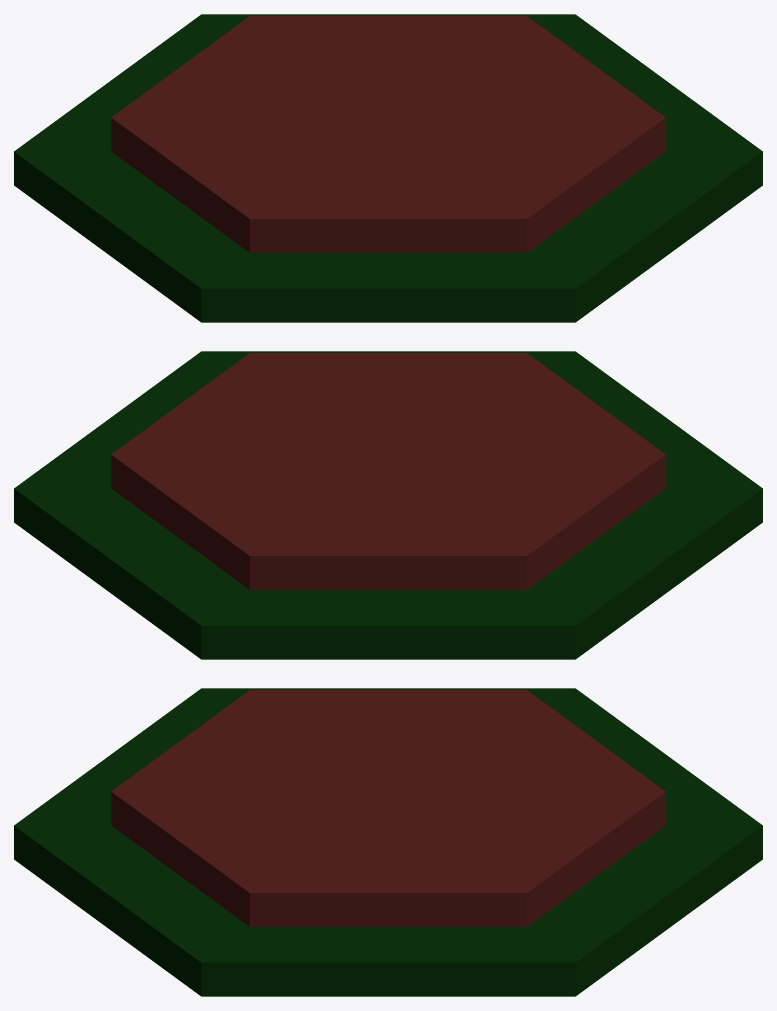
Rendered from hexagon-red.glb.
3 views of the same model, one above another, from view 1: azimuth 30°, elevation 25°; view 2: azimuth 150°, elevation 25°; view 3: azimuth 270°, elevation 25° (orthographic).
Parts seen in each view (by area): view 1: Cylinder.001, Cylinder; view 2: Cylinder.001, Cylinder; view 3: Cylinder.001, Cylinder.
Part boxes in pixels (x1,y1,x2,y2): Cylinder.001: (111,16,665,252); Cylinder: (14,14,762,322); Cylinder.001: (111,353,665,589); Cylinder: (14,351,762,659); Cylinder.001: (111,690,665,926); Cylinder: (14,688,762,996).
Size of the model in its own units: 4 by 0.4619 by 4.62.
